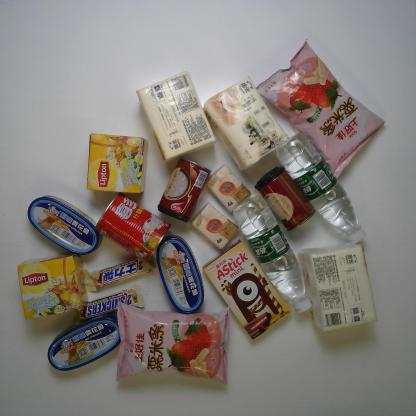Canned Food: (93, 193, 174, 263), (26, 194, 100, 256), (48, 315, 120, 372), (254, 166, 315, 232), (156, 234, 206, 314), (158, 157, 212, 224)
Chocolate: (80, 258, 156, 293), (72, 287, 146, 322)
Dessert: (202, 241, 293, 339)
Drink: (274, 133, 368, 244), (234, 196, 312, 312)
Instant Drink: (16, 255, 86, 320), (84, 131, 148, 196)
Puffed Food: (255, 39, 386, 181), (113, 297, 235, 386)
Tissue: (204, 78, 289, 170), (136, 69, 217, 162), (300, 240, 377, 332), (188, 202, 239, 249), (207, 164, 251, 213)
